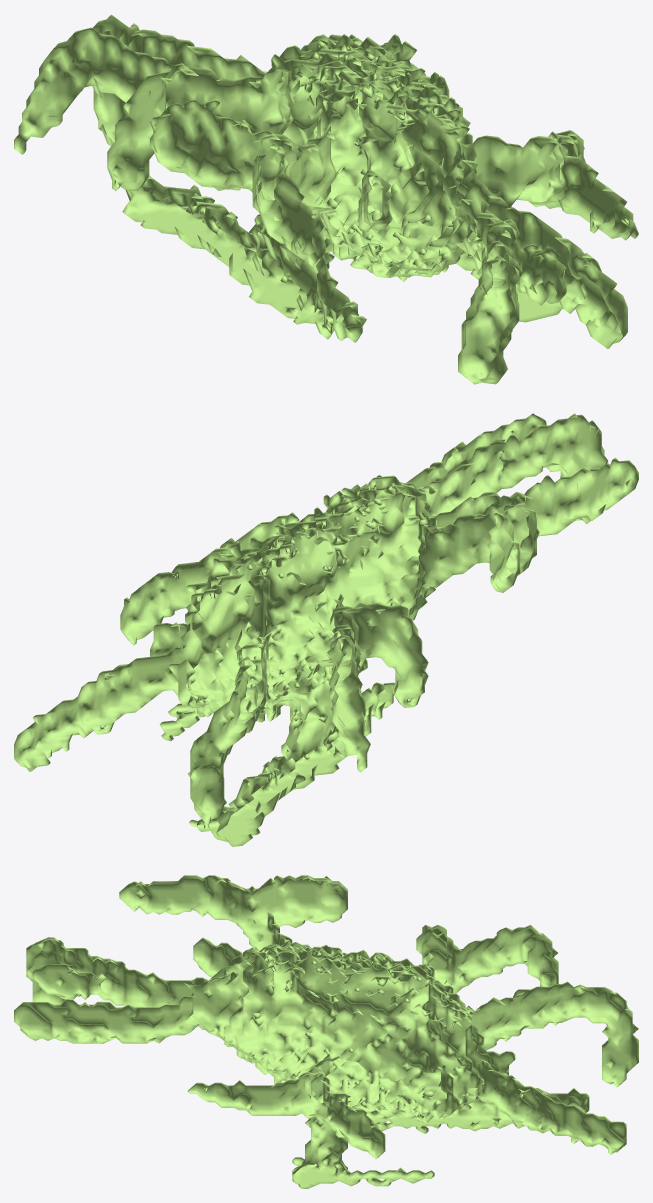
File: osteocyte_46.glb
3 views of the same model, one above another, from view 1: azimuth 30°, elevation 25°; view 2: azimuth 150°, elevation 25°; view 3: azimuth 270°, elevation 25° (orthographic). The views are drawn at different scales.
Parts seen in each view (by area): view 1: osteocyte_46; view 2: osteocyte_46; view 3: osteocyte_46.
Part boxes in pixels (left/top/right/bottom): osteocyte_46: left=14, top=14, right=638, bottom=384; osteocyte_46: left=14, top=413, right=638, bottom=846; osteocyte_46: left=14, top=875, right=638, bottom=1188.
Bounding box in the file's own units: 27.44 × 16.85 × 48.63.
